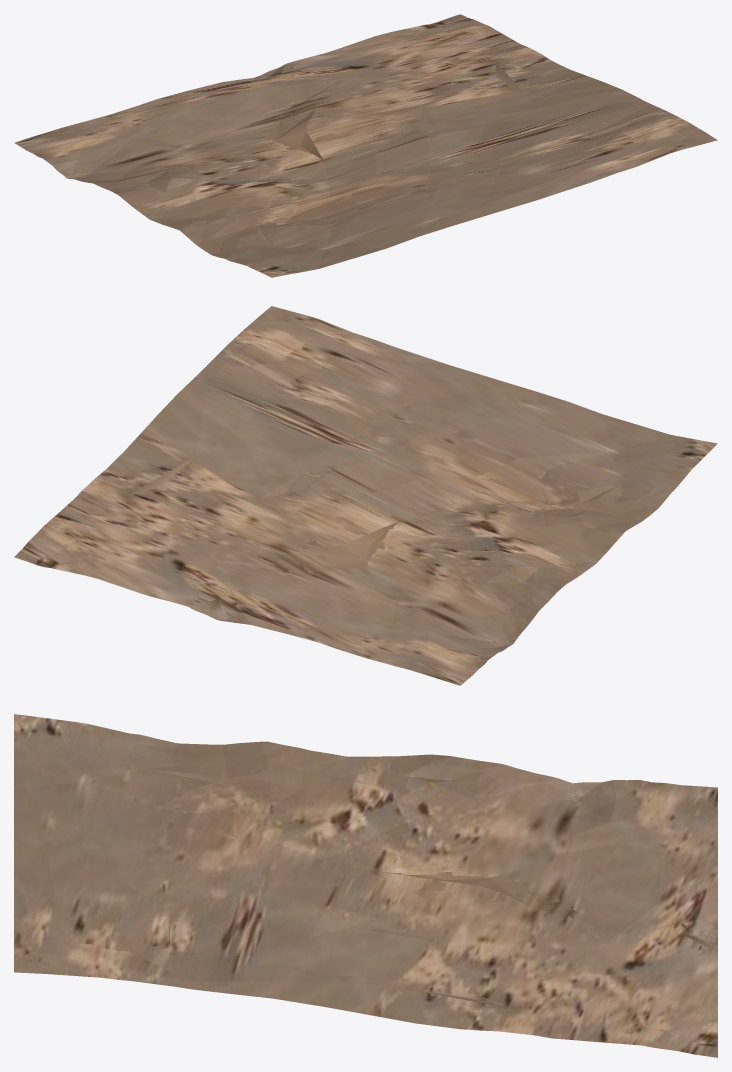
3 renders of one model, top to bottom at view 1: azimuth 30°, elevation 25°; view 2: azimuth 150°, elevation 25°; view 3: azimuth 270°, elevation 25°, orthographic. The views are drawn at different scales.
Bounding box in the file's own units: 2.09 × 0.3686 × 2.09.
2 materials, 2 textured.
